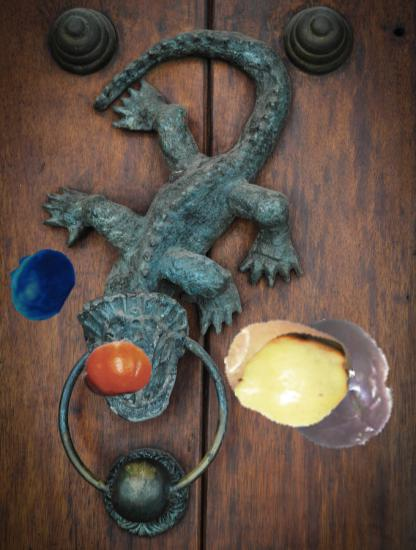Clementine: (79, 333, 152, 406)
Huckleberry: (3, 246, 78, 321)
Kumquats: (224, 302, 355, 433)
Passion: (268, 319, 403, 454)
Quince: (234, 320, 355, 441)
